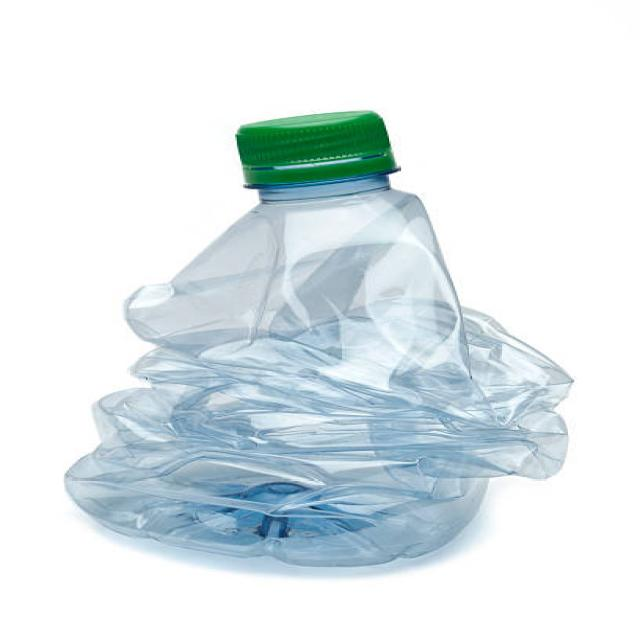plastic: (71, 115, 556, 563)
